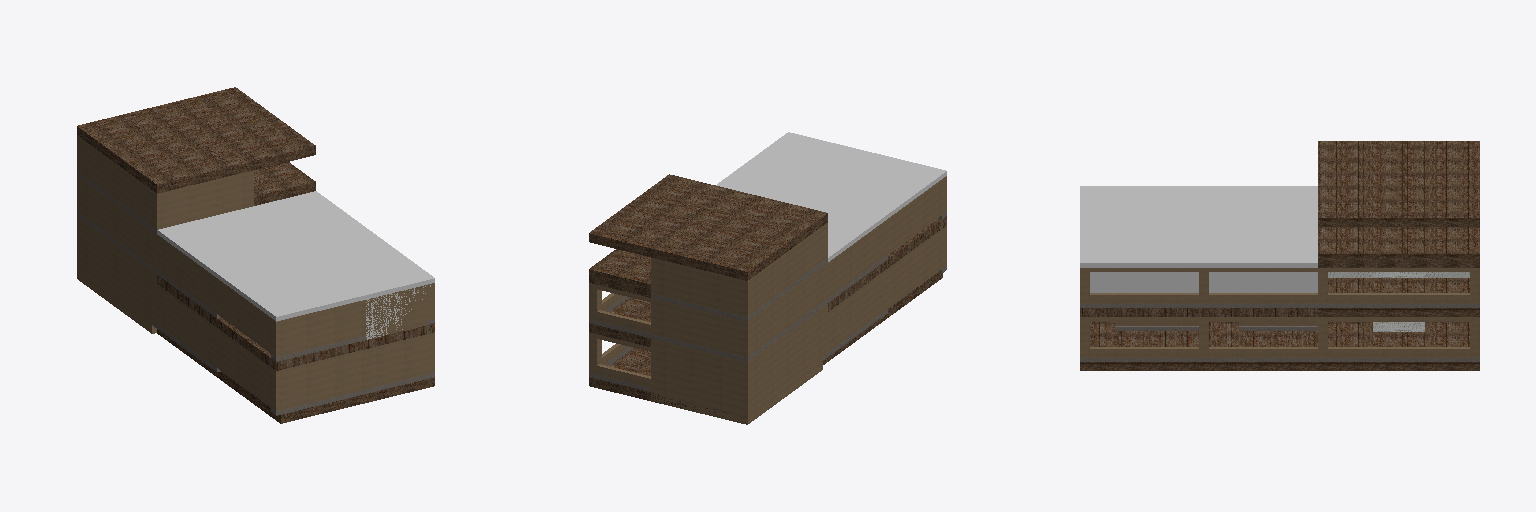
The picture shows the model from 3 angles: view 1: azimuth 30°, elevation 25°; view 2: azimuth 150°, elevation 25°; view 3: azimuth 270°, elevation 25°; orthographic projection.
Parts seen in each view (by area): view 1: entity0_brush6, entity0_brush132, entity0_brush54, entity0_brush91, entity0_brush129, entity0_brush10, entity0_brush0, entity0_brush49, entity0_brush128, entity0_brush105, entity0_brush59, entity0_brush118 (+5 smaller); view 2: entity0_brush132, entity0_brush6, entity0_brush52, entity0_brush54, entity0_brush125, entity0_brush47, entity0_brush49, entity0_brush128, entity0_brush105, entity0_brush59, entity0_brush88, entity0_brush124 (+6 smaller); view 3: entity0_brush6, entity0_brush132, entity0_brush59, entity0_brush124, entity2_brush0, entity0_brush51, entity0_brush0, entity0_brush65, entity0_brush73, entity0_brush1, entity0_brush3, entity0_brush80 (+8 smaller).
Boxes of the visible parts, box(x1,y1,x2,y2) form: entity0_brush6: box(157, 191, 434, 321); entity0_brush132: box(77, 87, 315, 193); entity0_brush54: box(82, 220, 156, 333); entity0_brush91: box(271, 348, 372, 410); entity0_brush129: box(152, 170, 253, 229); entity0_brush10: box(271, 298, 372, 356); entity0_brush0: box(157, 275, 434, 370); entity0_brush49: box(82, 180, 151, 265); entity0_brush128: box(82, 139, 151, 225); entity0_brush105: box(157, 284, 213, 364); entity0_brush59: box(157, 329, 434, 423); entity0_brush118: box(373, 334, 426, 387); entity0_brush132: box(589, 174, 827, 280); entity0_brush6: box(716, 132, 946, 261); entity0_brush52: box(651, 339, 752, 424); entity0_brush54: box(753, 307, 822, 420); entity0_brush125: box(651, 258, 752, 316); entity0_brush47: box(651, 298, 752, 356); entity0_brush49: box(753, 267, 822, 352); entity0_brush128: box(753, 226, 822, 312); entity0_brush105: box(828, 271, 884, 351); entity0_brush59: box(589, 272, 942, 416); entity0_brush88: box(888, 229, 941, 307); entity0_brush124: box(589, 249, 650, 297); entity0_brush6: box(1080, 186, 1317, 267); entity0_brush132: box(1318, 141, 1479, 226); entity0_brush59: box(1080, 322, 1479, 370); entity0_brush124: box(1318, 227, 1479, 267); entity2_brush0: box(1090, 272, 1317, 292); entity0_brush51: box(1318, 278, 1479, 316); entity0_brush0: box(1080, 308, 1317, 316); entity0_brush65: box(1328, 293, 1469, 303); entity0_brush73: box(1328, 347, 1469, 357); entity0_brush1: box(1090, 293, 1198, 303); entity0_brush3: box(1209, 293, 1317, 303); entity0_brush80: box(1209, 347, 1317, 357).
Bounding box in the file's own units: 592 × 544 × 1288.
Materials: 7 (5 with a texture image).